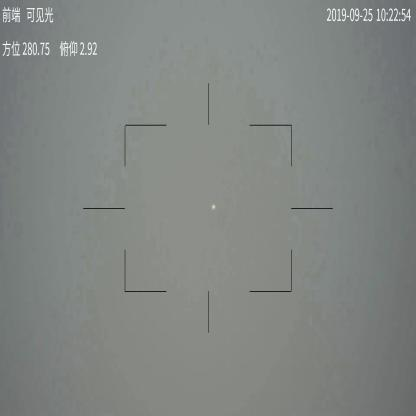uav: (211, 202, 217, 210)
